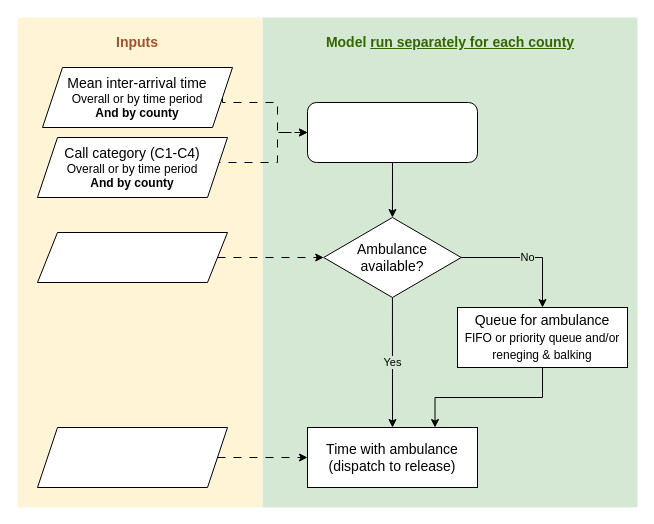
Some shapes in this 654 by 524 pixel diagram are drawn without their labels. Here are the shapes that lost their labels. From the top down, the centre of each, then its label:
the point at 392,132: Incoming call Attributes: Category (C1-C4) and county
the point at 132,257: Number of ambulances By county
the point at 132,457: Mean service time By call category And by county
